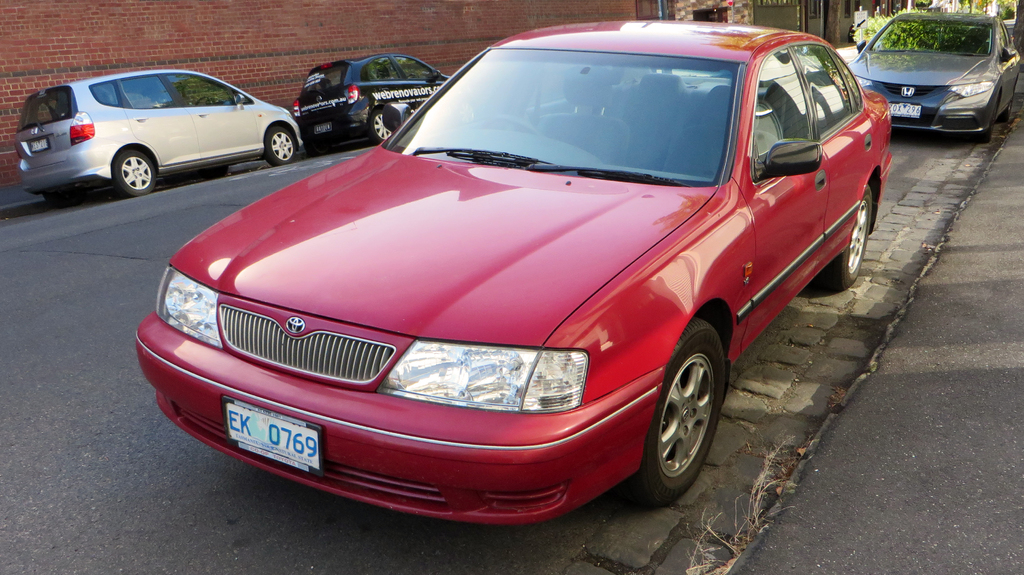Car: (15, 10, 1023, 524)
